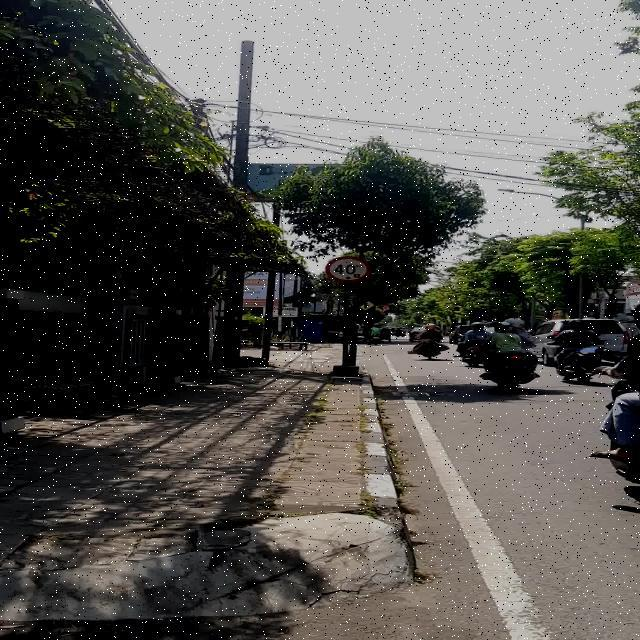Kecepatan Maks. 40 km: (324, 255, 370, 282)
